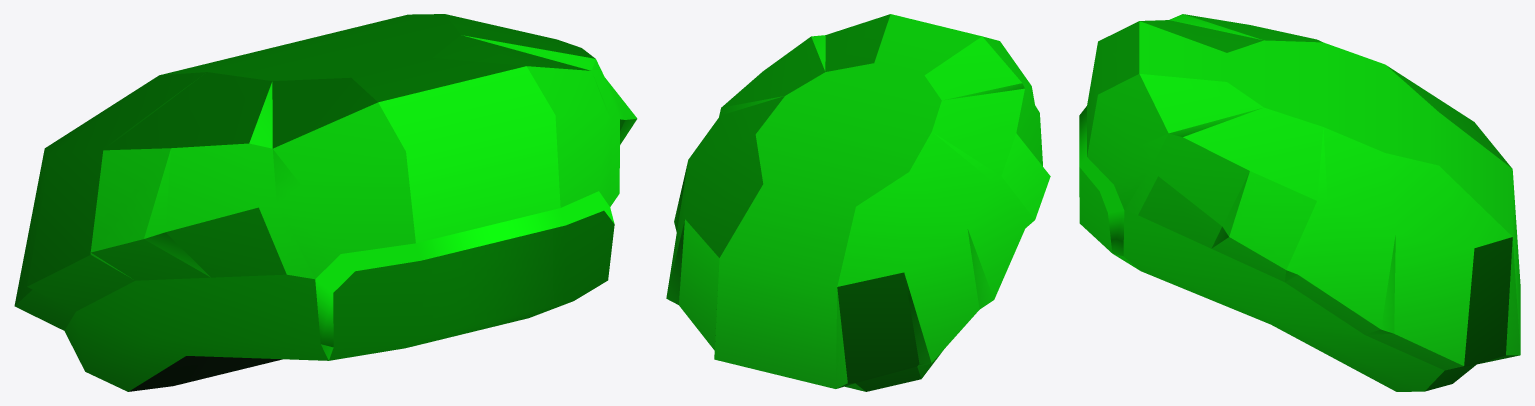
3 renders of one model, left to right at view 1: azimuth 30°, elevation 25°; view 2: azimuth 150°, elevation 25°; view 3: azimuth 270°, elevation 25°, orthographic. The views are drawn at different scales.
Parts seen in each view (by area): view 1: Beret; view 2: Beret; view 3: Beret.
Boxes of the visible parts, box(x1,y1,x2,y2) form: Beret: box(14, 14, 637, 391); Beret: box(666, 14, 1050, 391); Beret: box(1079, 14, 1520, 391).
Size of the model in its own units: 0.304 by 0.2351 by 0.3056.
1 material, 1 textured.
